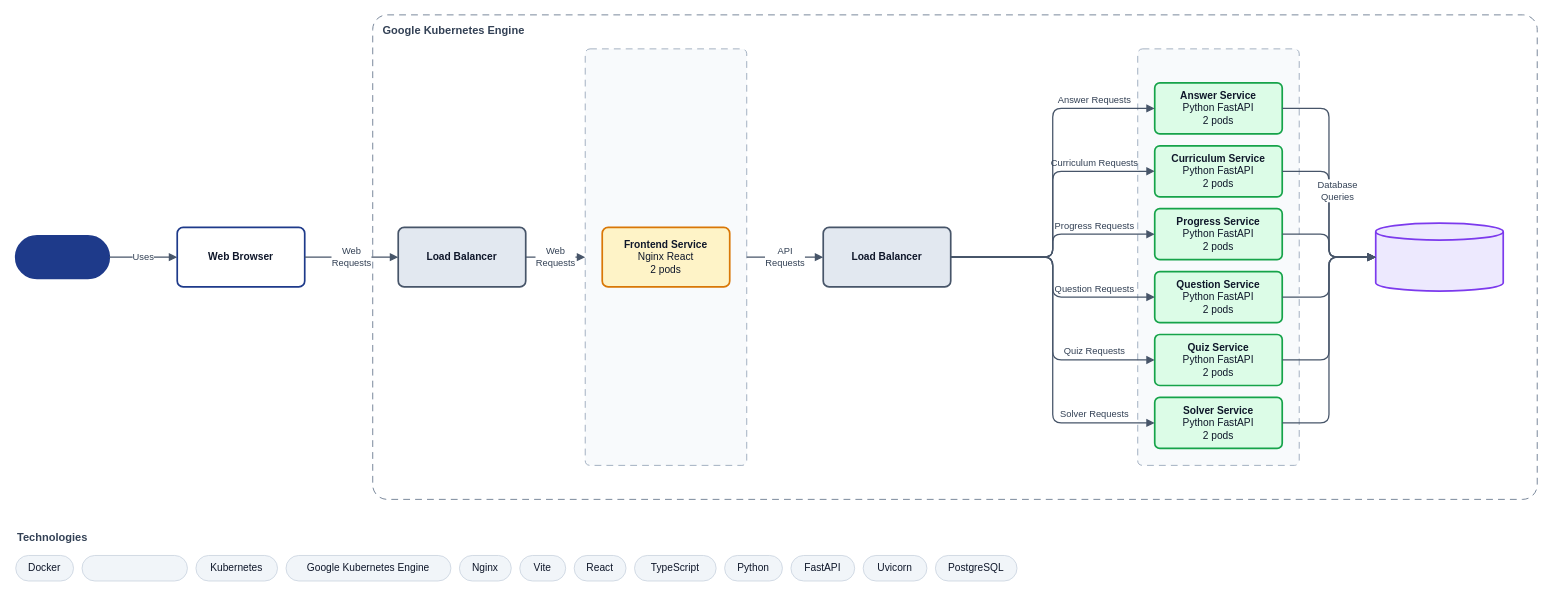
Some shapes in this 1552 by 596 pixel diagram are drawn without their labels. Each missing label, with the box of its shape:
Backend Services: (1137, 48, 1299, 465)
Database PostgreSQL 1 pod: (1374, 222, 1504, 292)
Docker Compose: (81, 555, 187, 581)
Frontend Services: (584, 48, 747, 465)
Users: (14, 235, 110, 279)
